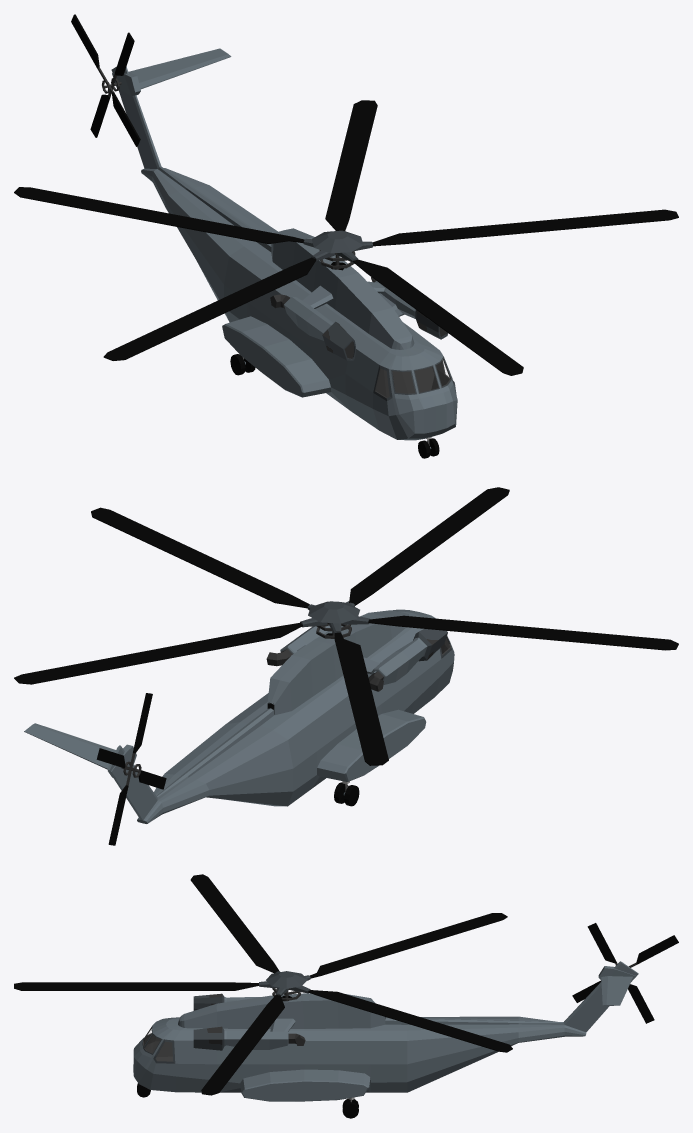
3 views of the same model, one above another, from view 1: azimuth 30°, elevation 25°; view 2: azimuth 150°, elevation 25°; view 3: azimuth 270°, elevation 25° (orthographic). The views are drawn at different scales.
Visible parts, largest first — view 1: Circle.024, Circle.026, Circle.027; view 2: Circle.024, Circle.026, Circle.027; view 3: Circle.024, Circle.026, Circle.027.
Boxes of the visible parts, x1,y1,x2,y2 form: Circle.024: (111, 48, 457, 440); Circle.026: (14, 100, 678, 375); Circle.027: (71, 14, 140, 146); Circle.024: (24, 601, 454, 823); Circle.026: (14, 487, 678, 765); Circle.027: (96, 693, 166, 845); Circle.024: (133, 961, 638, 1101); Circle.026: (14, 874, 512, 1095); Circle.027: (572, 923, 678, 1023).
Size of the model in its own units: 3027 by 1076 by 3857.
